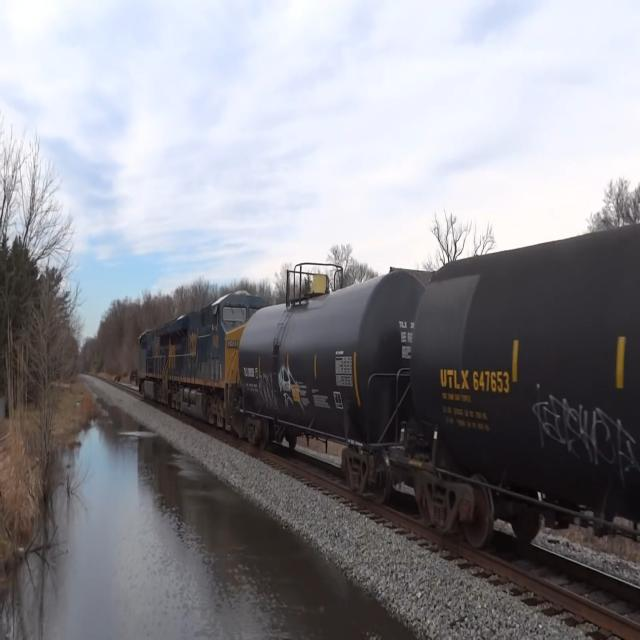locomotive: (166, 290, 241, 436)
tank: (393, 174, 635, 623), (238, 249, 436, 509)
